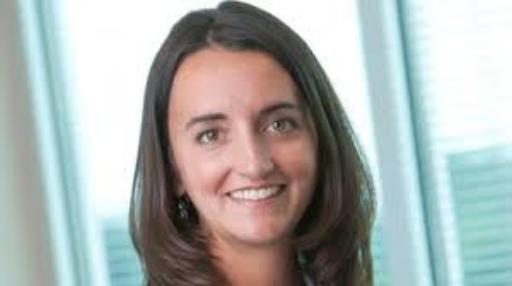left_eye: (263, 120, 305, 135)
left_lip_corner: (280, 182, 295, 195)
right_eye: (194, 129, 232, 149)
right_lip_corner: (221, 189, 235, 201)
